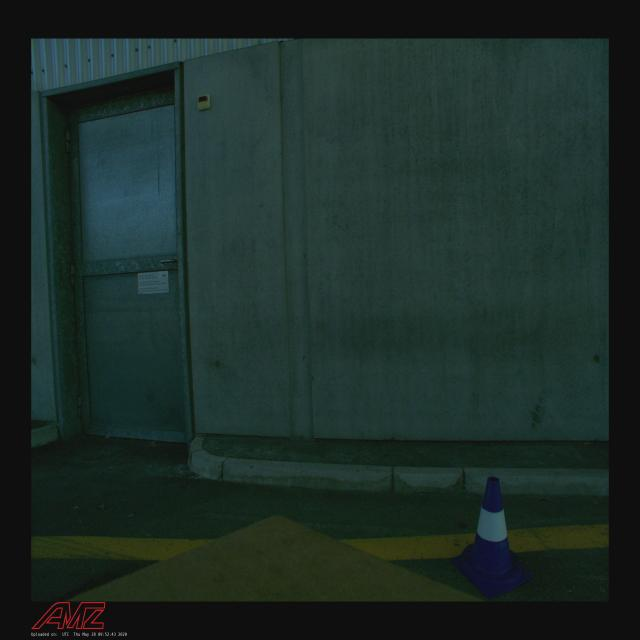blue_cone: (452, 476, 534, 599)
